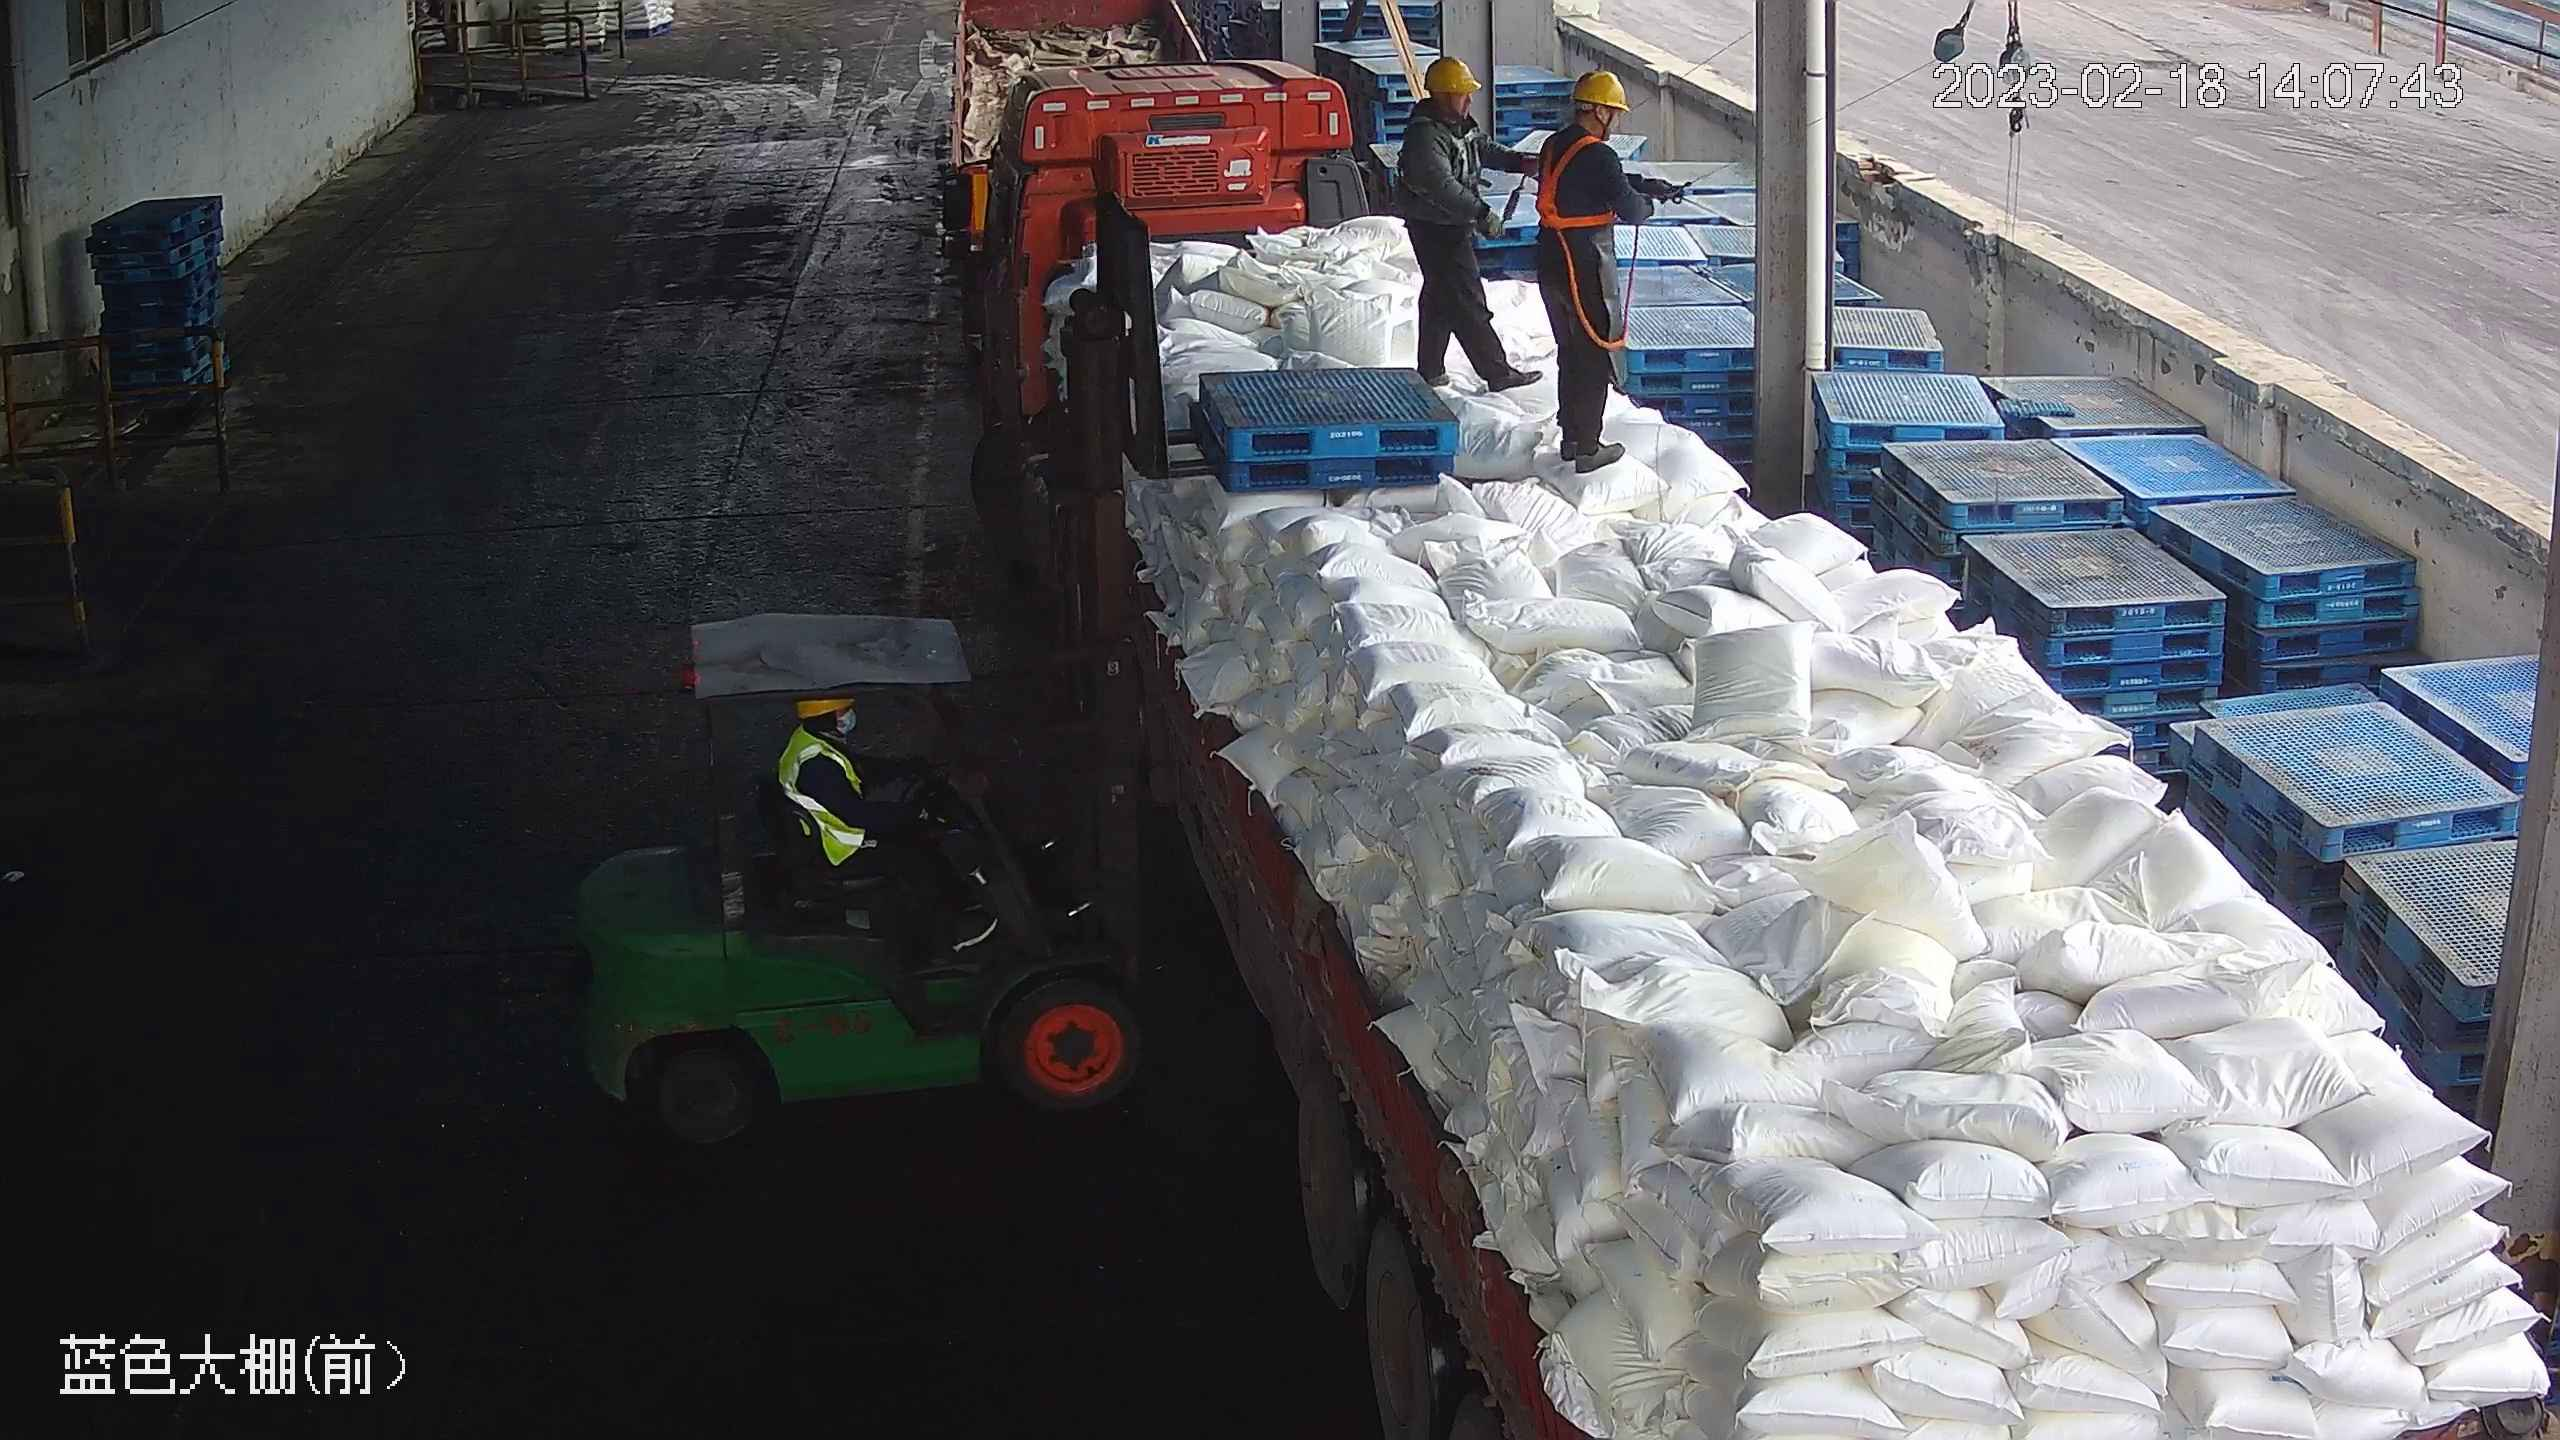belt: (1539, 132, 1625, 237), (1398, 110, 1499, 195)
head: (1535, 67, 1645, 181), (1398, 56, 1498, 176)
helmet: (1571, 69, 1629, 117), (1422, 59, 1479, 101)
people: (774, 703, 1003, 962), (1400, 56, 1549, 396), (1534, 71, 1654, 467)
truck: (937, 59, 2560, 1440)
